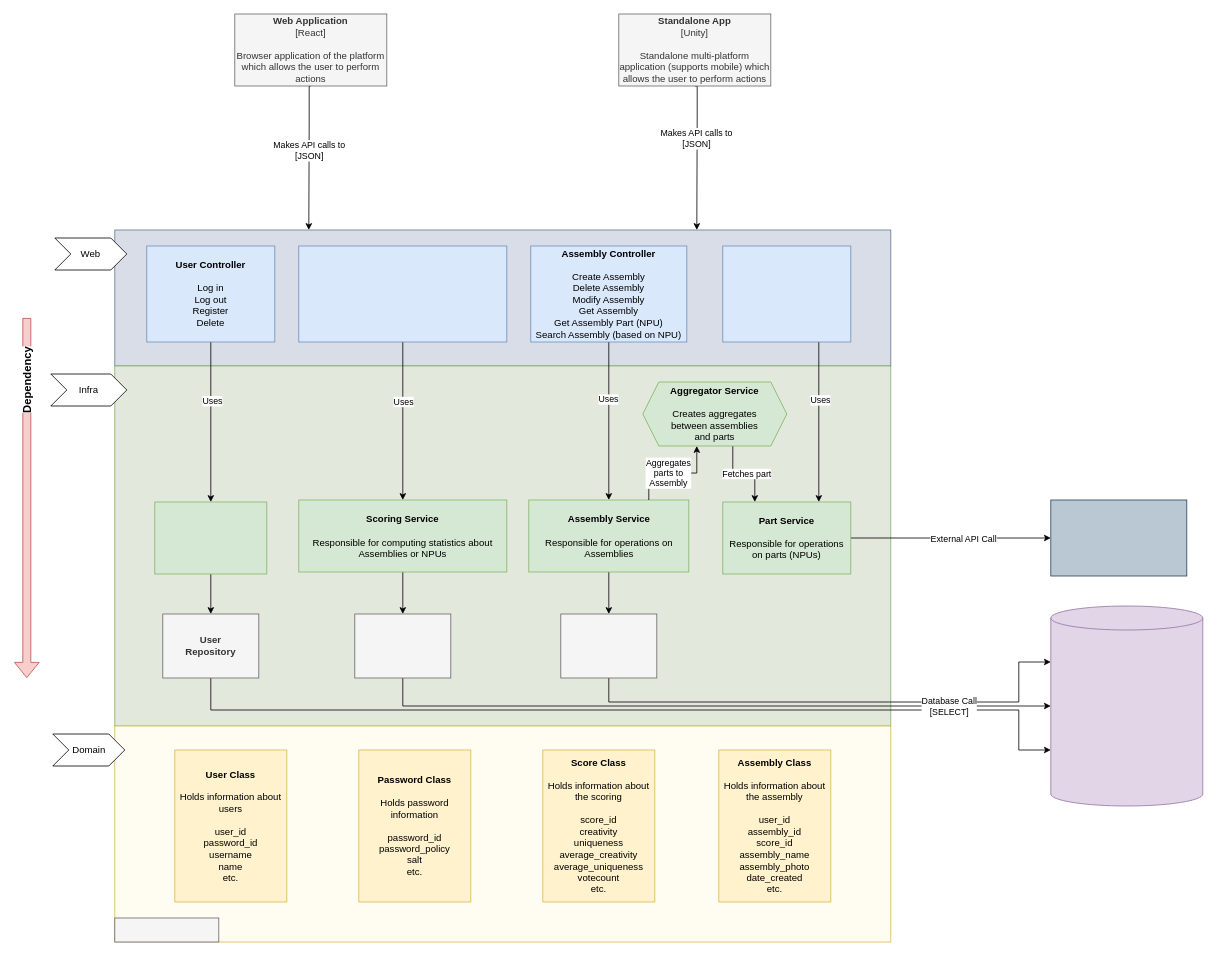
Some shapes in this 1217 by 956 pixel diagram are drawn without their labels. The centre of each missing label's shape, as x and y in pixels:
"API Application [WEB API]" belongs at [166,929].
"Assembly Repository" belongs at [608,645].
"Database [MS SQL] Holds user and application information" belongs at [1126,705].
"Great NPU Directory" belongs at [1118,537].
"Part Directory Controller Fetch Part info (NPUs) Fetch all parts (NPUs)" belongs at [786,293].
"Scoring Controller Rate Assembly Statistics about NPUs and or Assemblies" belongs at [402,293].
"Scoring Repository" belongs at [402,645].
"User Service Responsible for user account operations" belongs at [210,537].
